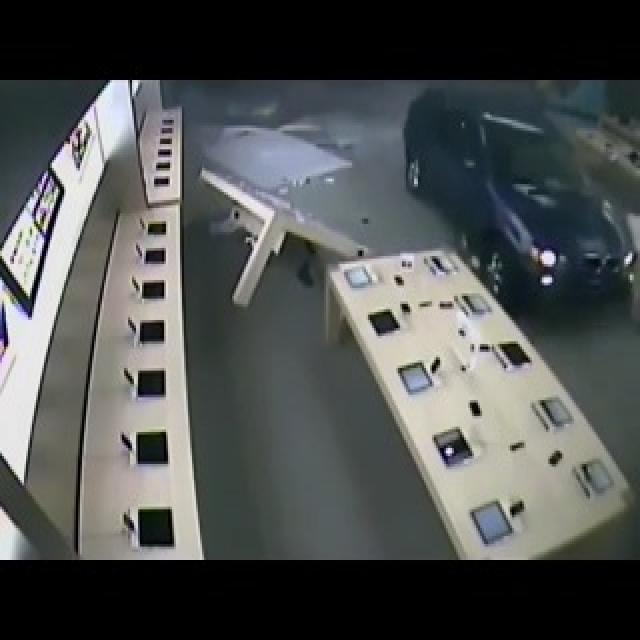burglary: (394, 81, 640, 304)
